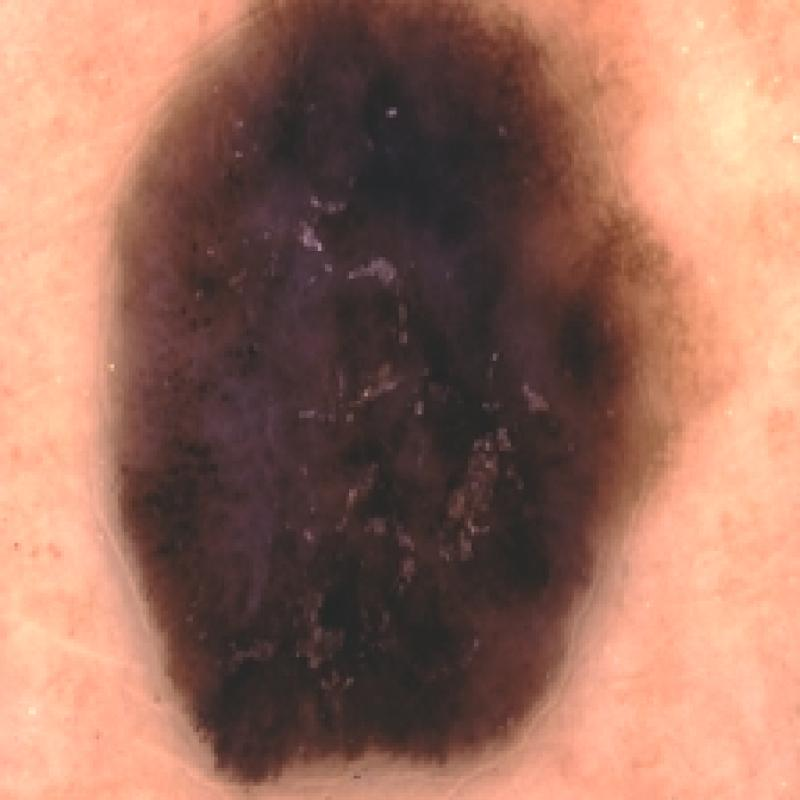malignant: (100, 0, 696, 779), (38, 743, 38, 744)
